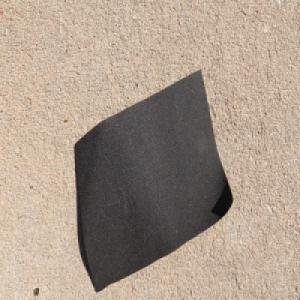PaintChip: (75, 68, 234, 292)
